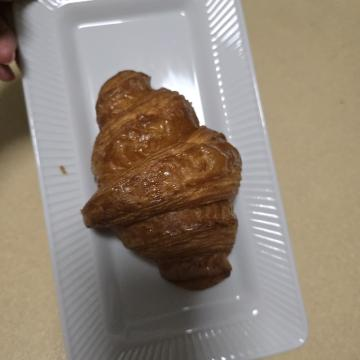croissant: (64, 112, 299, 290)
